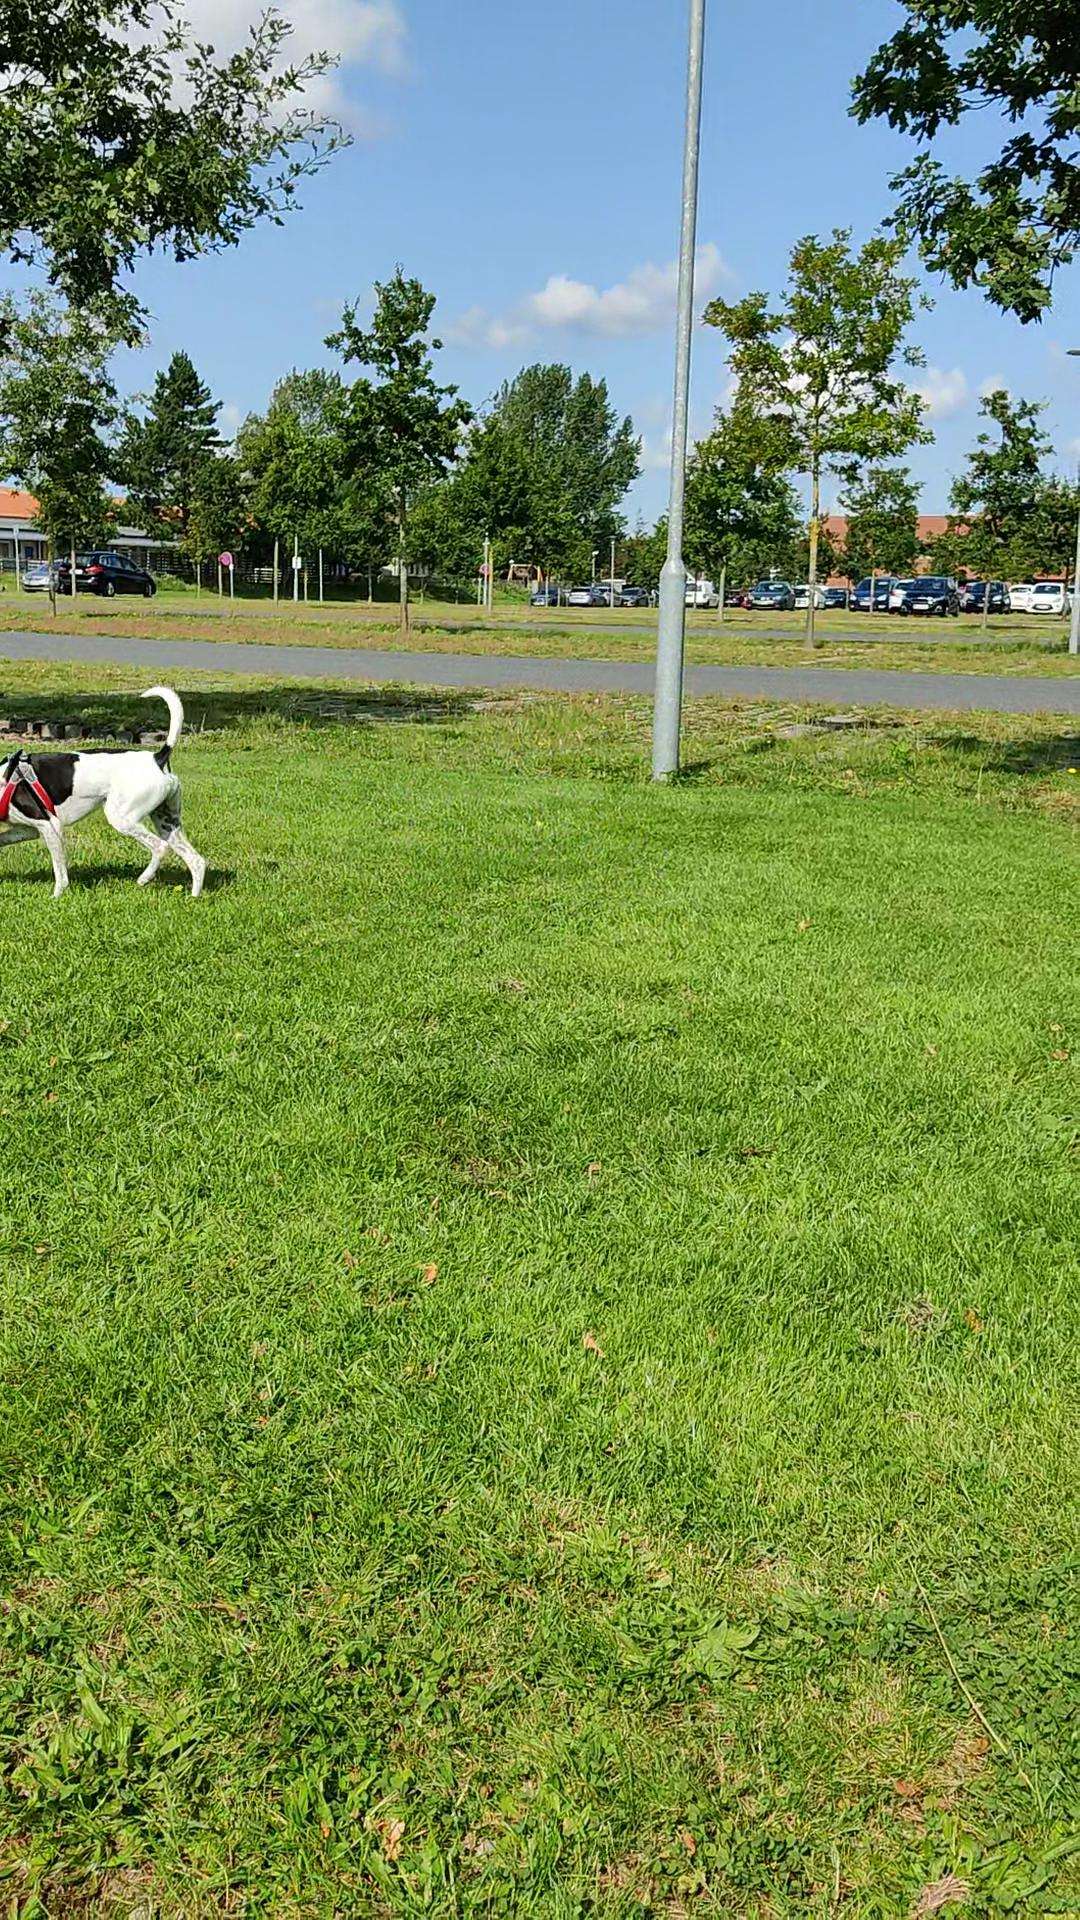Dog: (0, 667, 229, 918)
